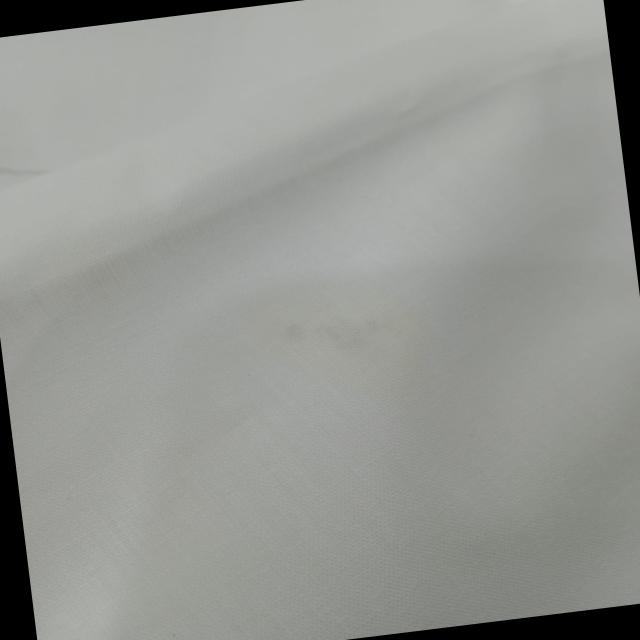stain: (232, 277, 436, 377)
